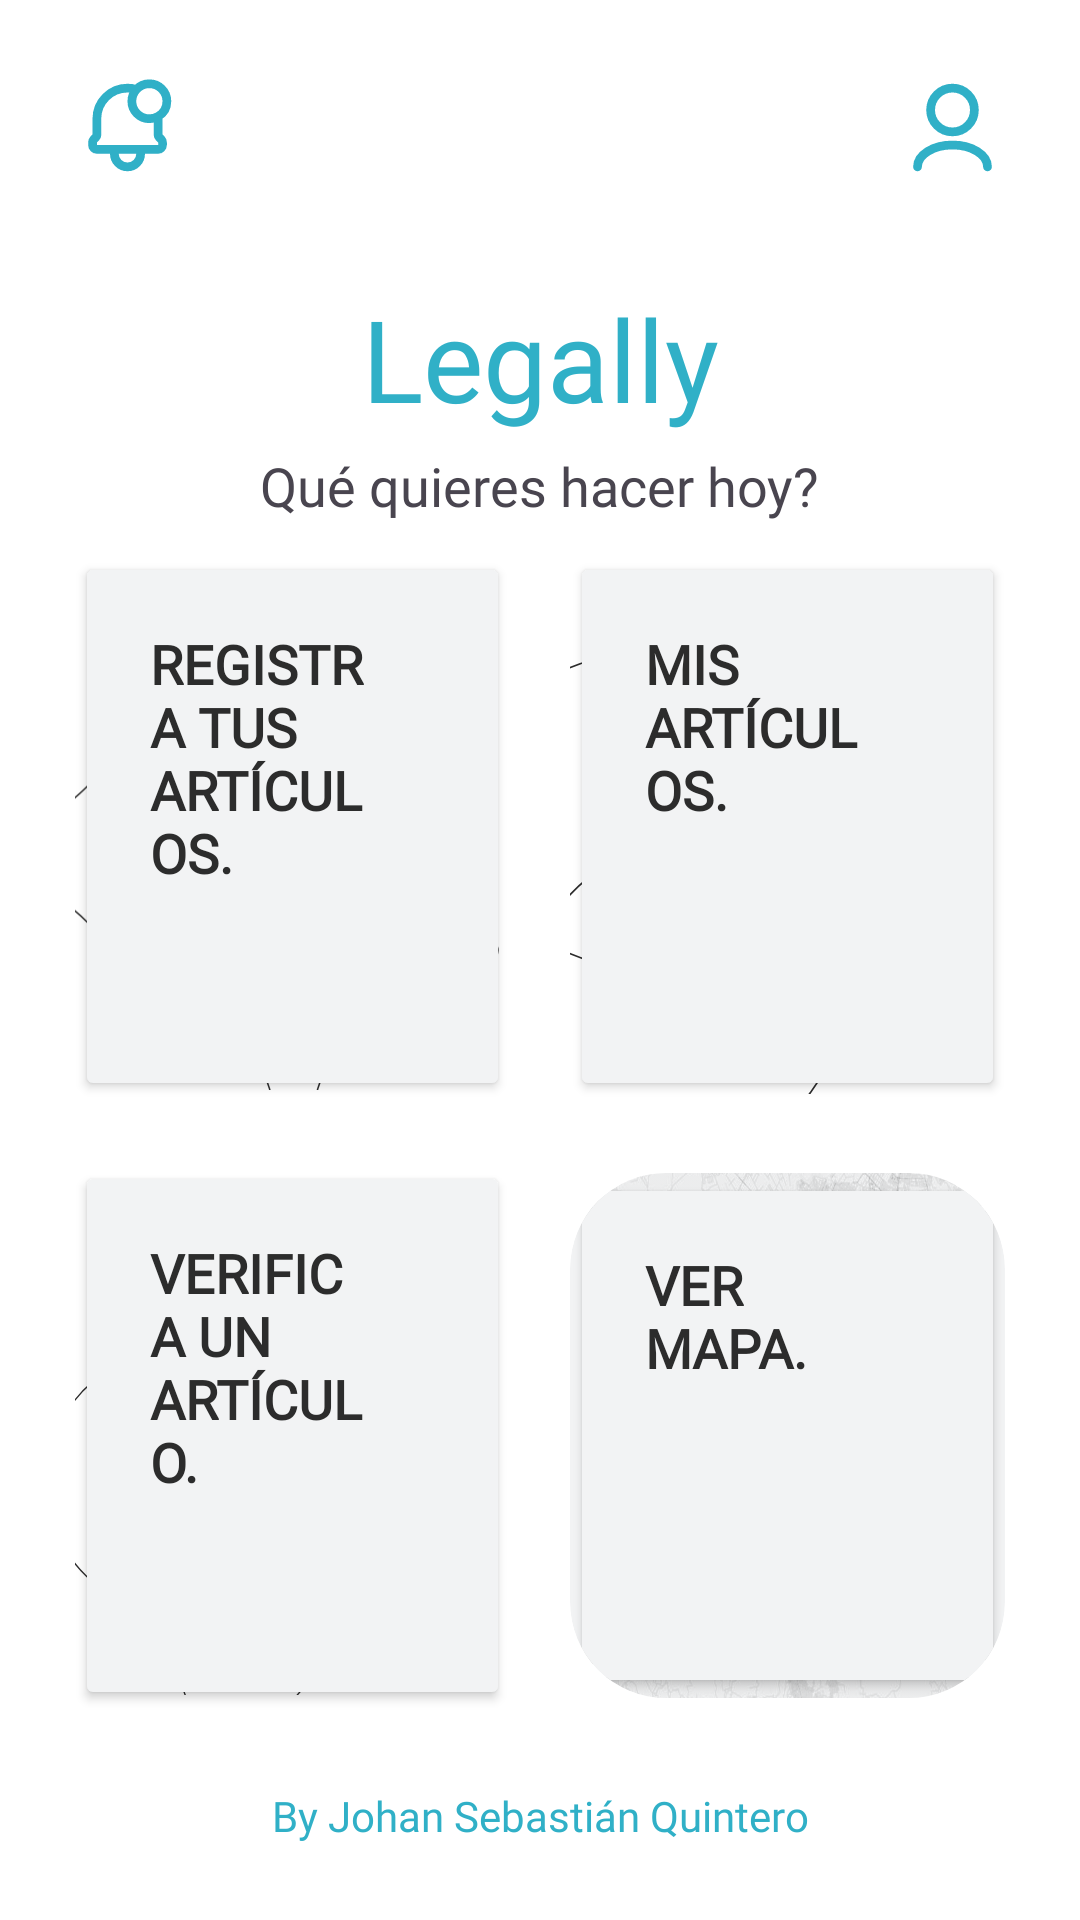

Named icons in this screenshot (1080x1920) and their centers, (x=x, y=y):
campana: (x=130, y=125)
userimg: (x=952, y=127)
